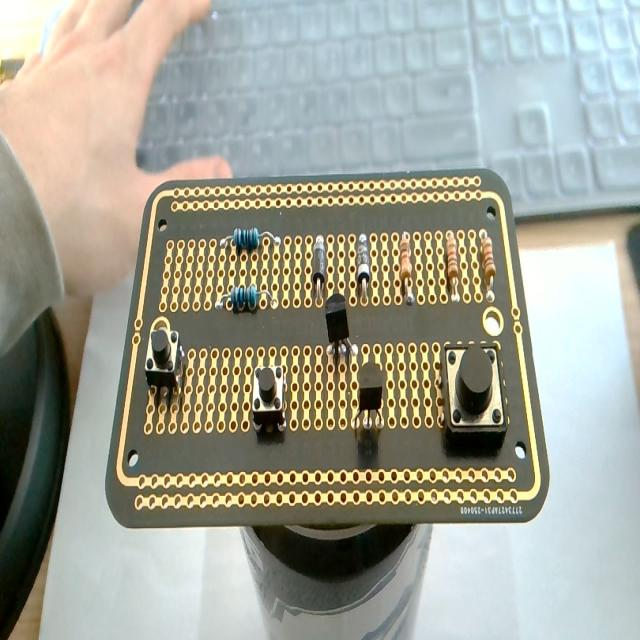diode: (356, 233, 372, 305), (312, 235, 326, 304)
resistor: (217, 284, 274, 313), (218, 226, 280, 252), (478, 230, 497, 304), (445, 231, 460, 303), (400, 232, 414, 304), (233, 227, 259, 251)
switch: (440, 339, 506, 438), (144, 322, 184, 402), (251, 362, 287, 435)
transistor: (322, 291, 357, 365), (355, 361, 384, 435)
